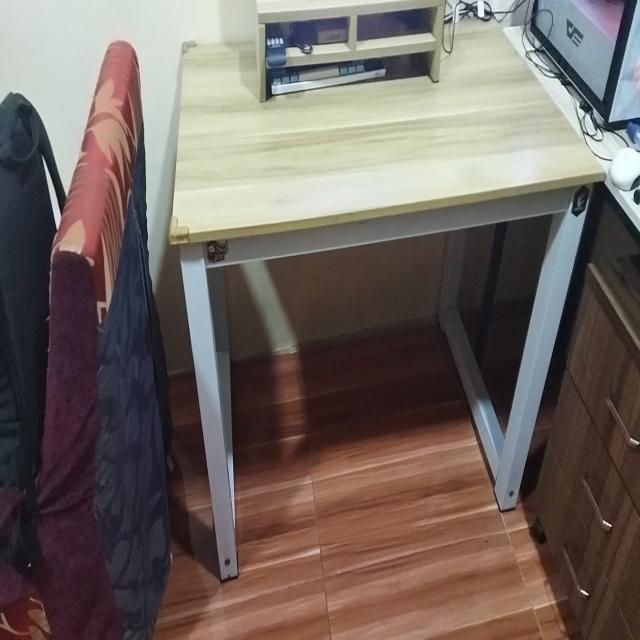table: (170, 21, 608, 596)
